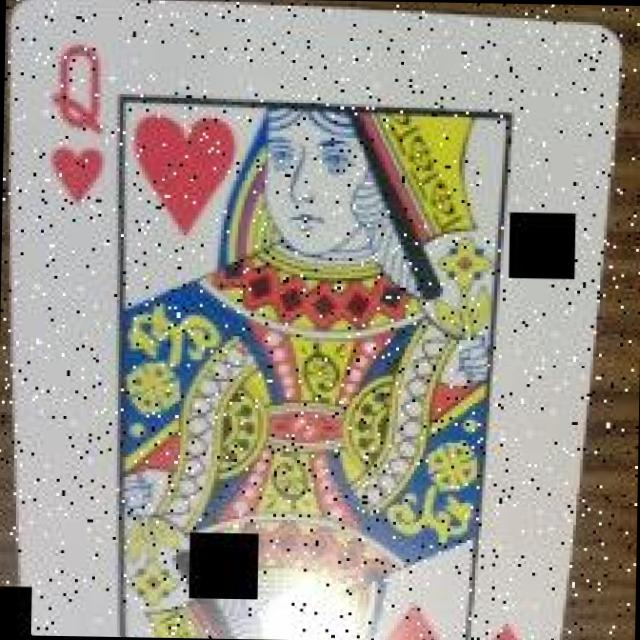Queen of hearts: (12, 0, 614, 640)
